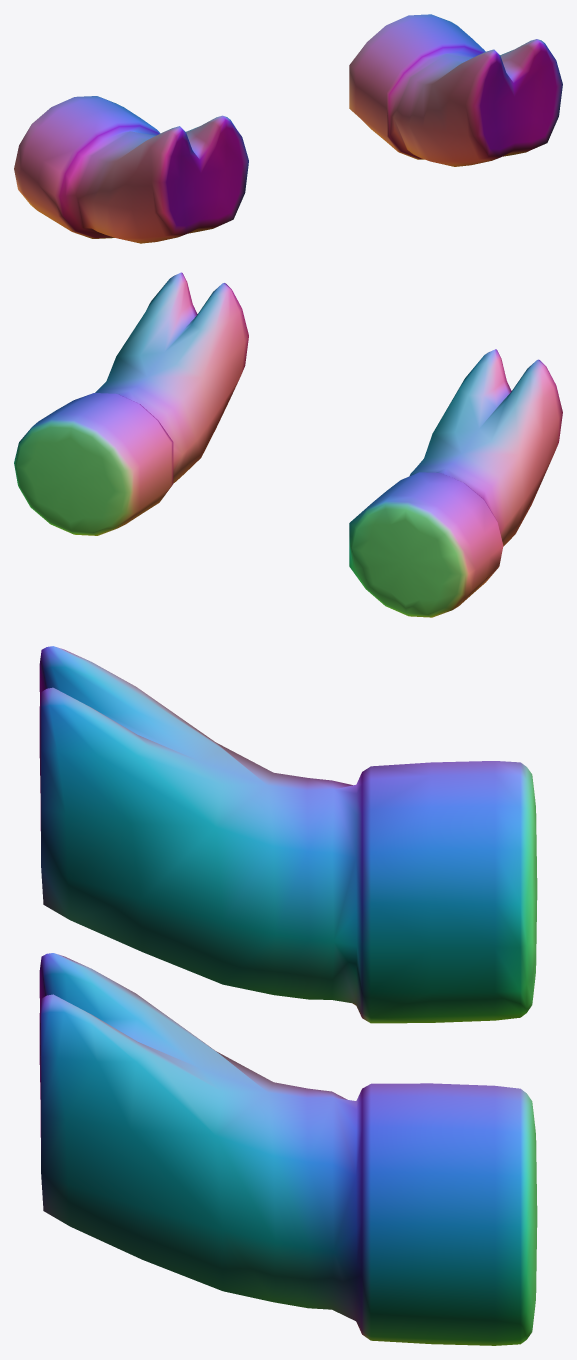
File: hoof.fbx
The picture shows the model from 3 angles, top to bottom: view 1: azimuth 30°, elevation 25°; view 2: azimuth 150°, elevation 25°; view 3: azimuth 270°, elevation 25°; orthographic projection. The views are drawn at different scales.
Visible parts, largest first — view 1: hoofRight, hoofLeft; view 2: hoofLeft, hoofRight; view 3: hoofRight, hoofLeft.
Part boxes in pixels (left/top/right/bottom): hoofRight: left=14, top=96, right=248, bottom=243; hoofLeft: left=349, top=14, right=562, bottom=166; hoofLeft: left=14, top=272, right=248, bottom=535; hoofRight: left=349, top=349, right=562, bottom=617; hoofRight: left=39, top=646, right=537, bottom=1023; hoofLeft: left=39, top=953, right=537, bottom=1345.
Size of the model in its own units: 565 by 207 by 267.
